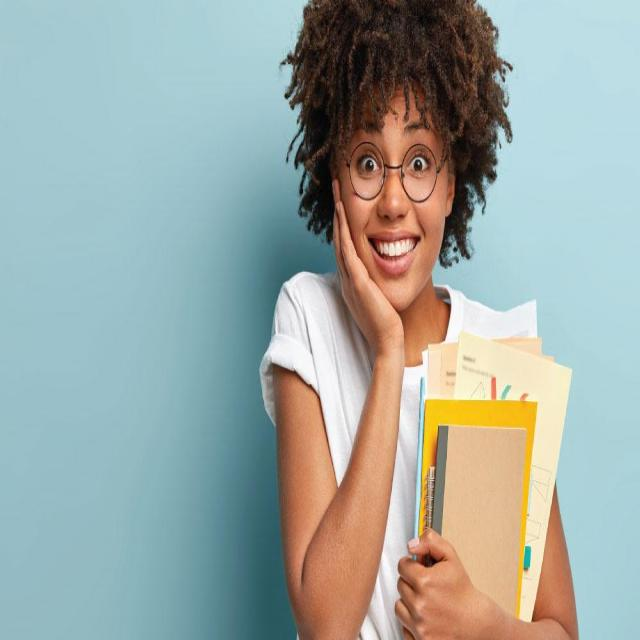person: (229, 12, 568, 639)
